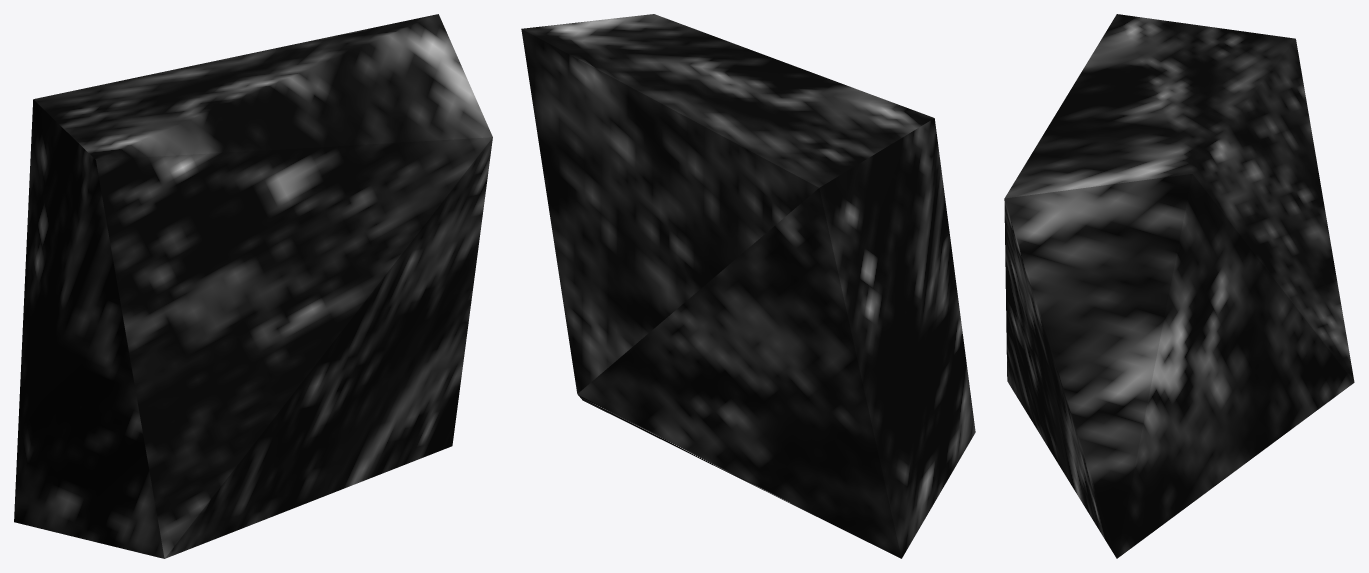
Rendered from MEP_Crystal_07.fbx.
3 views of the same model, side by side, from view 1: azimuth 30°, elevation 25°; view 2: azimuth 150°, elevation 25°; view 3: azimuth 270°, elevation 25° (orthographic).
Visible parts, largest first — view 1: MEP_Crystal_07; view 2: MEP_Crystal_07; view 3: MEP_Crystal_07.
Boxes of the visible parts, <box> form: MEP_Crystal_07: <box>14,14,492,558</box>; MEP_Crystal_07: <box>521,14,975,558</box>; MEP_Crystal_07: <box>1004,14,1354,558</box>.
Size of the model in its own units: 0.7393 by 0.7393 by 0.5556.
1 material, 1 textured.
